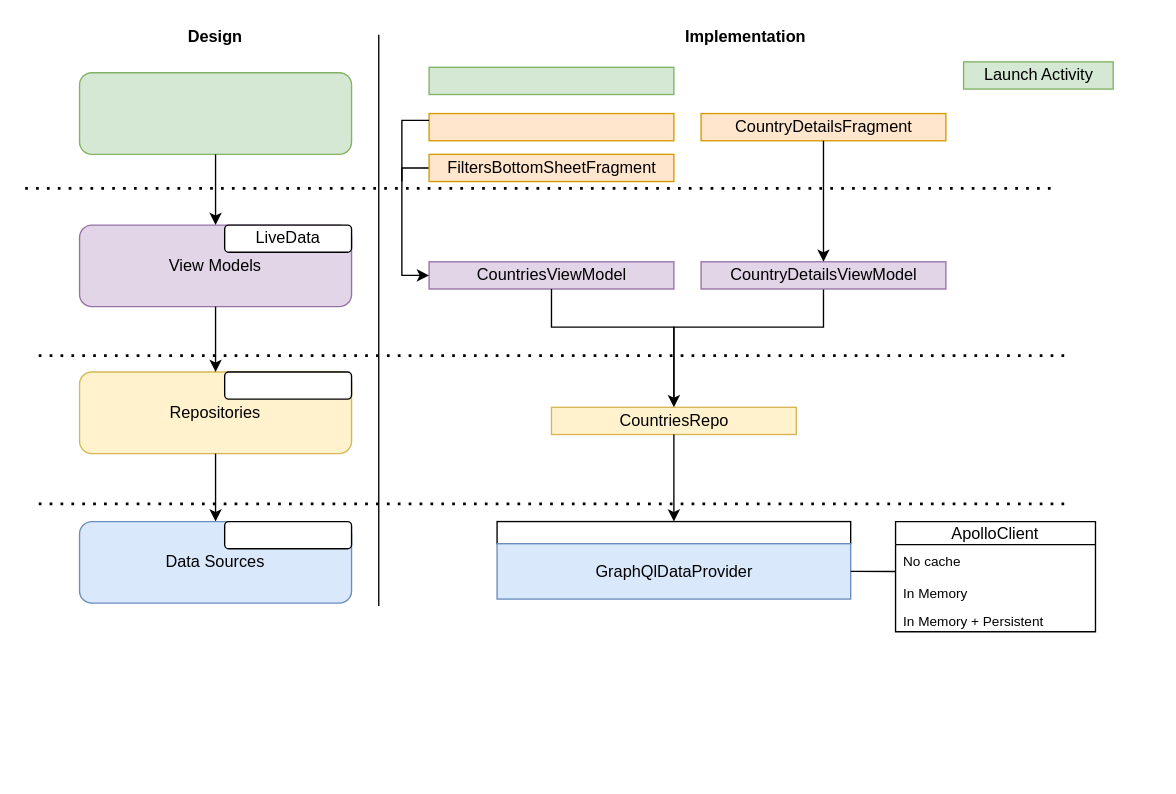
This 1176x794 diagram has some shape labels left out. The shapes that lost their labels are listed below. From the top down, each one's centre as x and y in pixels, then its label:
point (551, 80): Main Activity
point (215, 112): Activities / Fragments
point (551, 126): CountriesFragment
point (287, 385): Flow
point (287, 534): suspend fun
point (673, 532): DataProvider
